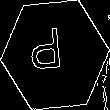P_S: (36, 28, 74, 82)
